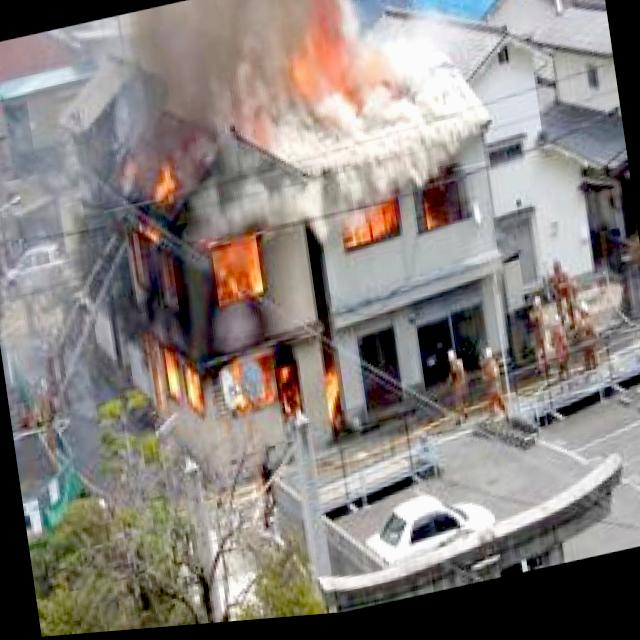helmet: (113, 121, 360, 474), (284, 0, 410, 132), (342, 185, 464, 259)
no_helmet: (96, 0, 502, 262)
